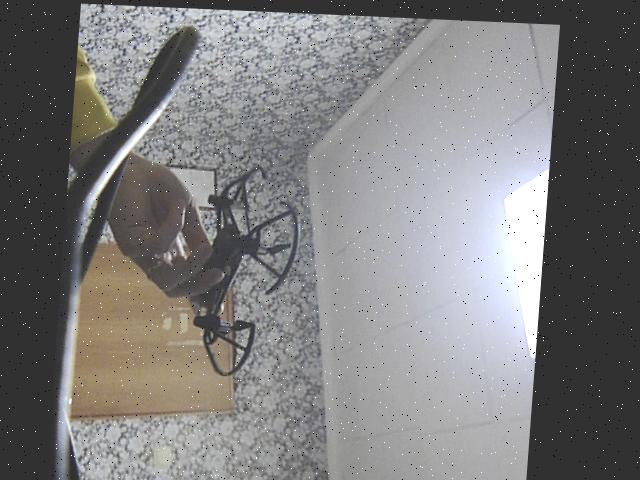drone: (151, 152, 314, 385)
